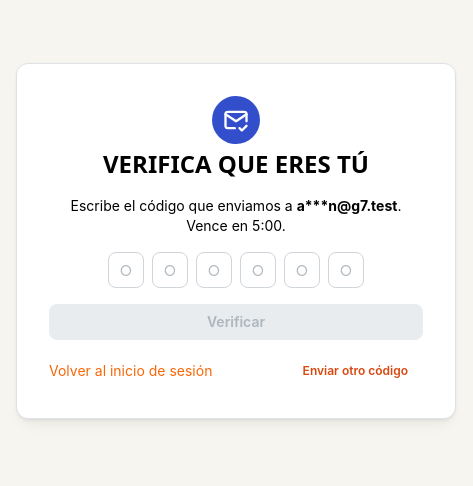
Test case: FRONT-04 desafío OTP › 429 al pedir otro código muestra la espera y deshabilita el reenvío
Expected: the text "a***n@g7.test" is shown, x1=297 y1=197 x2=398 y2=214
Click the button "Enviar otro código" at (355, 371), box x1=288 y1=356 x2=423 y2=386
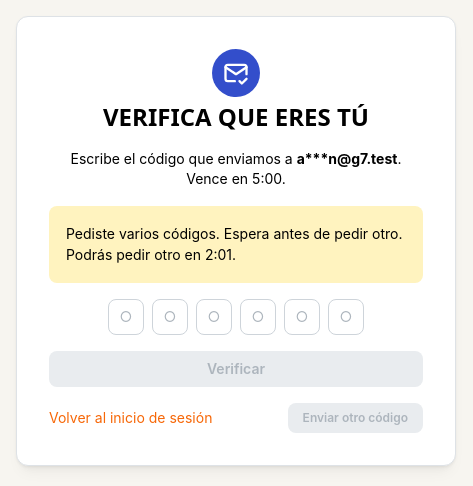
Expected: the message shows "Espera antes de pedir otro", x1=66 y1=225 x2=402 y2=242
Expected: the button "Enviar otro código" is disabled, x1=288 y1=403 x2=423 y2=433
